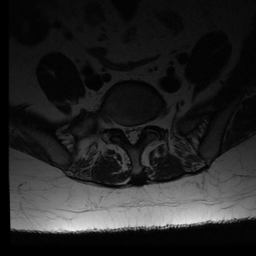CCS_normal: (129, 117, 135, 150)
LFS_severe_stenosis: (142, 113, 150, 135)
LLS_normal: (136, 117, 142, 144)
RFS_stenosis: (115, 114, 123, 134)
RLS_normal: (123, 117, 129, 144)
